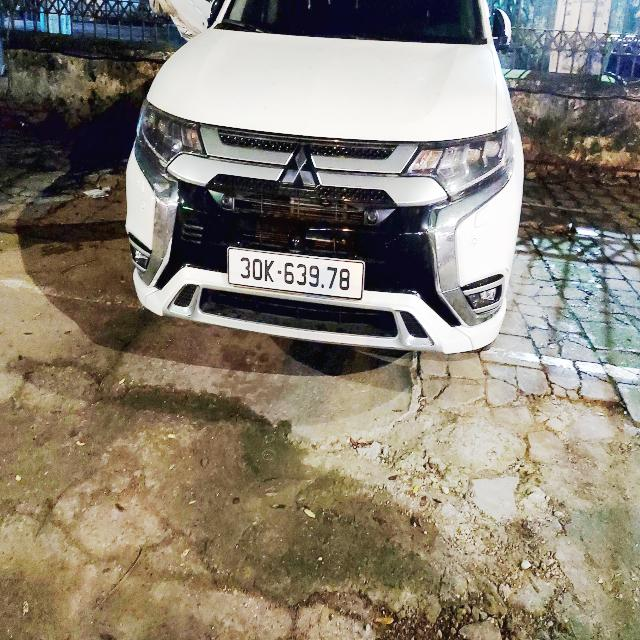license_plate: (226, 247, 367, 305)
